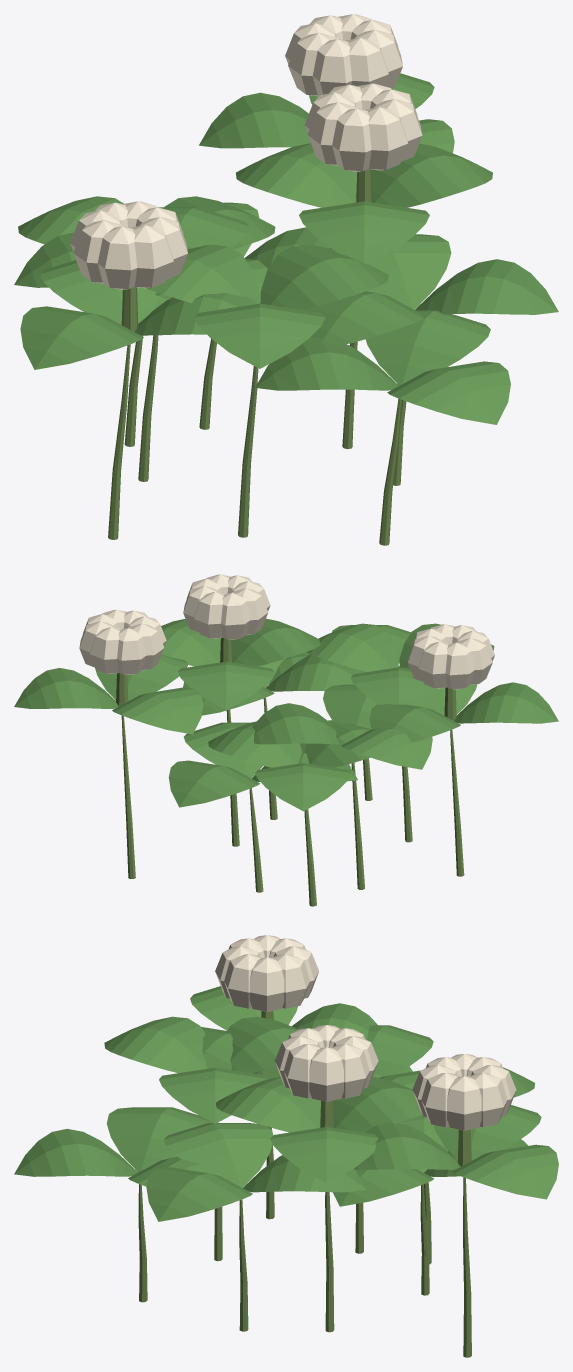
The model's file is round-clover.glb.
The picture shows the model from 3 angles, top to bottom: view 1: azimuth 30°, elevation 25°; view 2: azimuth 150°, elevation 25°; view 3: azimuth 270°, elevation 25°; orthographic projection. The views are drawn at different scales.
Visible parts, largest first — view 1: round-clover; view 2: round-clover; view 3: round-clover.
Boxes of the visible parts, bbox=[...] form: round-clover: bbox=[14, 14, 558, 545]; round-clover: bbox=[14, 574, 558, 906]; round-clover: bbox=[14, 935, 558, 1357].
Bounding box in the file's own units: 0.2194 × 0.1322 × 0.217.
